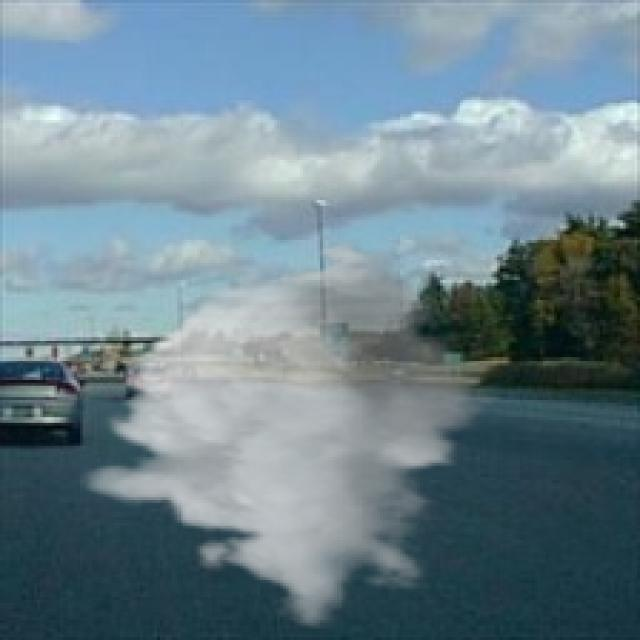Smoke: (80, 237, 506, 629)
